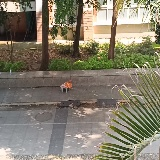fire: (64, 80, 72, 88)
